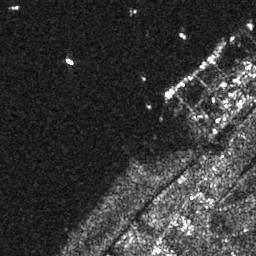ship: (65, 57, 75, 66), (10, 3, 21, 10), (179, 31, 186, 39)
